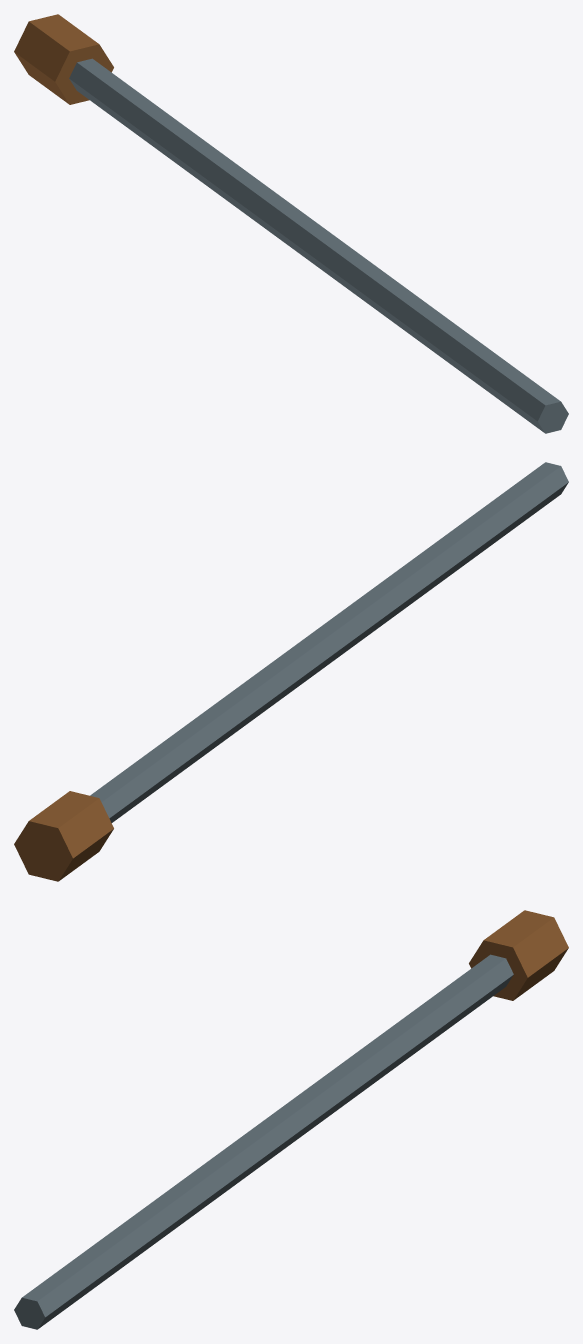
The model's file is Ramrod.glb.
3 renders of one model, top to bottom at view 1: azimuth 30°, elevation 25°; view 2: azimuth 150°, elevation 25°; view 3: azimuth 330°, elevation 25°, orthographic.
Parts seen in each view (by area): view 1: Sculpture; view 2: Sculpture; view 3: Sculpture.
Boxes of the visible parts, x1=… form: Sculpture: x1=14, y1=14, x2=568, y2=433; Sculpture: x1=14, y1=462, x2=568, y2=881; Sculpture: x1=14, y1=910, x2=568, y2=1329.
Bounding box in the file's own units: 0.034 × 0.0294 × 0.508.
